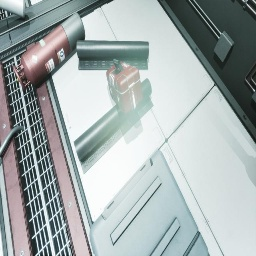0: (0, 0, 25, 18)
FirstAidBox ,: (106, 59, 143, 114)
NitrogenTank ,: (13, 12, 85, 92)
